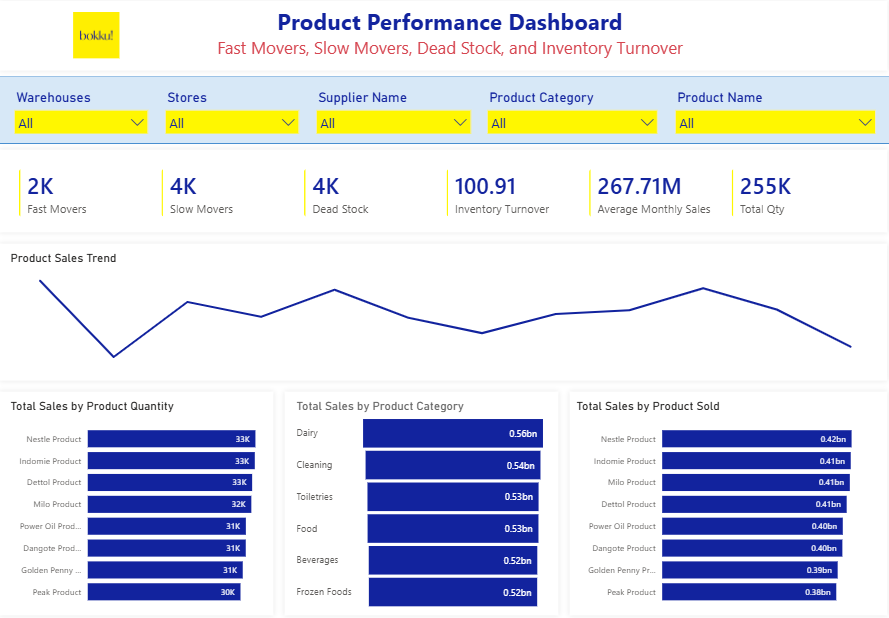

What the dashboard file says about the page in this screenshot:
{"tool":"powerbi","page":{"name":"Product Performance Dashboard","canvas":[1280,900],"ordinal":3},"visuals":[{"type":"shape","box":[811.7,565.3,468.5,334.7],"z":0},{"type":"shape","box":[405.9,565.3,405.9,334.7],"z":1000},{"type":"shape","box":[0,565.3,405.9,334.7],"z":2000},{"type":"shape","box":[0,123.9,1280.2,96.8],"z":3000},{"type":"shape","box":[0,220.7,1280.2,133.9],"z":4000},{"type":"shape","box":[0,8.1,1280.4,115.7],"z":5000},{"type":"textbox","box":[18.5,18.5,1261.7,89.7],"z":6000},{"type":"image","box":[108.9,32.3,72.6,65.9],"z":7000},{"type":"cardVisual","fields":{"Data":["products.Fast Movers","products.Slow Movers","products.Dead Stock","inventory_product.Inventory Turnover","products.Average Monthly Sales","sales_transactions.Total Qty"]},"box":[18.5,239.2,1247.5,102.5],"z":8000},{"type":"slicer","fields":{"Values":["warehouses.warehouse_name"]},"box":[18.5,138.1,210.8,68.4],"z":9000},{"type":"slicer","fields":{"Values":["suppliers.supplier_name"]},"box":[447.9,138.1,240.7,68.4],"z":10000},{"type":"slicer","fields":{"Values":["products.product_name"]},"box":[959.8,138.1,306.2,68.4],"z":11000},{"type":"slicer","fields":{"Values":["stores.branch_name"]},"box":[233.2,138.1,210.8,68.4],"z":12000},{"type":"slicer","fields":{"Values":["products.category"]},"box":[692.4,138.1,263.4,68.4],"z":13000},{"type":"barChart","title":"Total Sales by Product Quantity","fields":{"Category":["products.product_name"],"Y":["Sum(sales_transactions.quantity_sold)"]},"box":[18.5,583.9,407.3,304.7],"z":14000},{"type":"barChart","title":"Total Sales by Product Sold","fields":{"Y":["sales_transactions.Total Sales"],"Category":["products.product_name"]},"box":[824.5,583.9,455.7,304.7],"z":15000},{"type":"funnel","title":"Total Sales by Product Category","fields":{"Category":["products.category"],"Y":["sales_transactions.Total Sales"]},"box":[425.8,583.9,366,304.7],"z":16000},{"type":"shape","box":[0,355,1280,211.2],"z":17000},{"type":"lineChart","title":"Product Sales Trend","fields":{"Category":["Dates.Month"],"Y":["sales_transactions.Total Sales"]},"box":[18.8,372.5,1248.1,178.9],"z":18000}]}

Visuals, with their boxes in screenshot pixels (x1, y1, x2, y2), scaled from the page's 1280x900 canvas onto the 889x618 screenshot:
shape: 564, 388, 888, 617
shape: 282, 388, 564, 617
shape: 0, 388, 282, 617
shape: 0, 85, 888, 152
shape: 0, 152, 888, 243
shape: 0, 6, 888, 85
textbox: 13, 13, 888, 74
image: 76, 22, 126, 67
cardVisual - products.Fast Movers x products.Slow Movers: 13, 164, 879, 235
slicer - warehouses.warehouse_name: 13, 95, 159, 142
slicer - suppliers.supplier_name: 311, 95, 478, 142
slicer - products.product_name: 667, 95, 879, 142
slicer - stores.branch_name: 162, 95, 308, 142
slicer - products.category: 481, 95, 664, 142
"Total Sales by Product Quantity" barChart: 13, 401, 296, 610
"Total Sales by Product Sold" barChart: 573, 401, 888, 610
"Total Sales by Product Category" funnel: 296, 401, 550, 610
shape: 0, 244, 888, 389
"Product Sales Trend" lineChart: 13, 256, 880, 379
